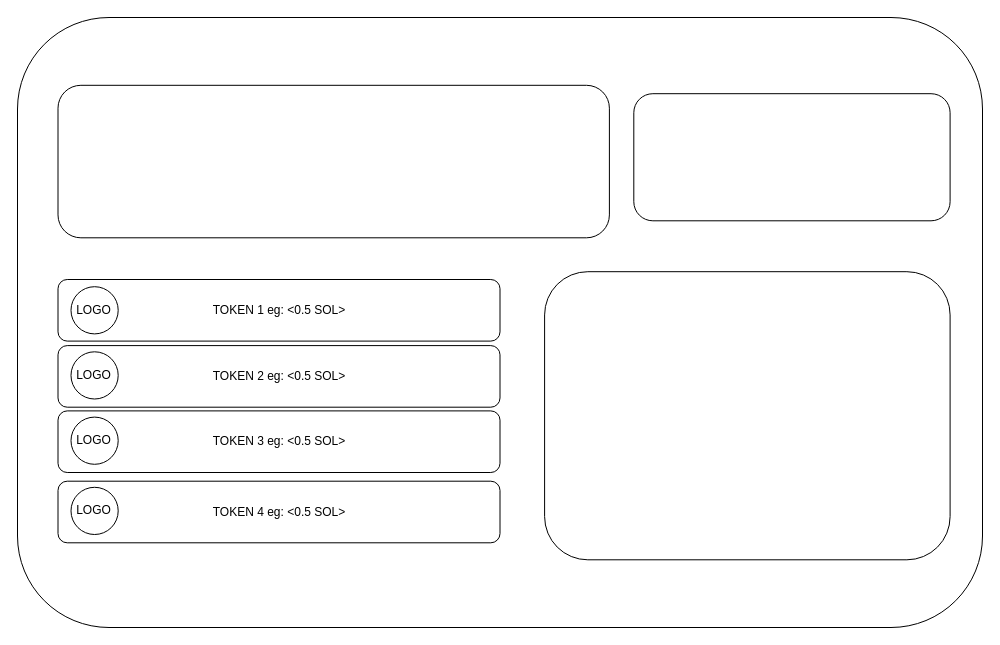
This 1000x645 diagram has some shape labels left out. Here are the shapes that lost their labels. From the top down, the centre of each, then its label:
At (333,161): "$Wallet-Value in USD (Conversions required)".
At (791,157): "$PNL - %PNL".
At (747,415): "Graph".
